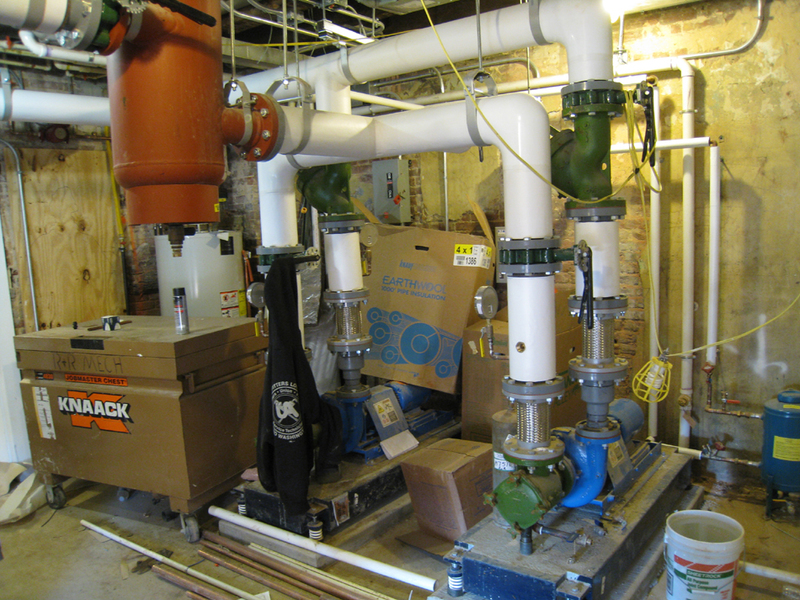valve: (473, 322, 493, 369), (243, 300, 259, 345)
